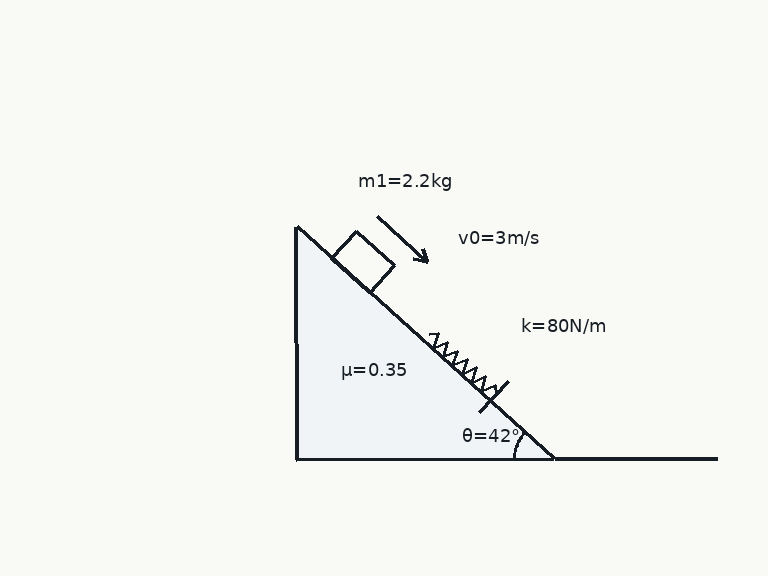block: (329, 229, 396, 294)
ramp: (294, 225, 556, 461)
spring: (427, 331, 498, 396)
